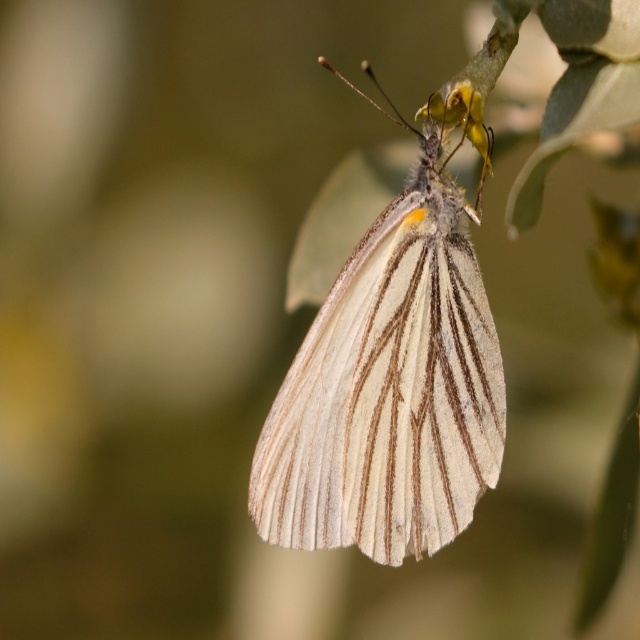Butterfly: (248, 57, 507, 566)
